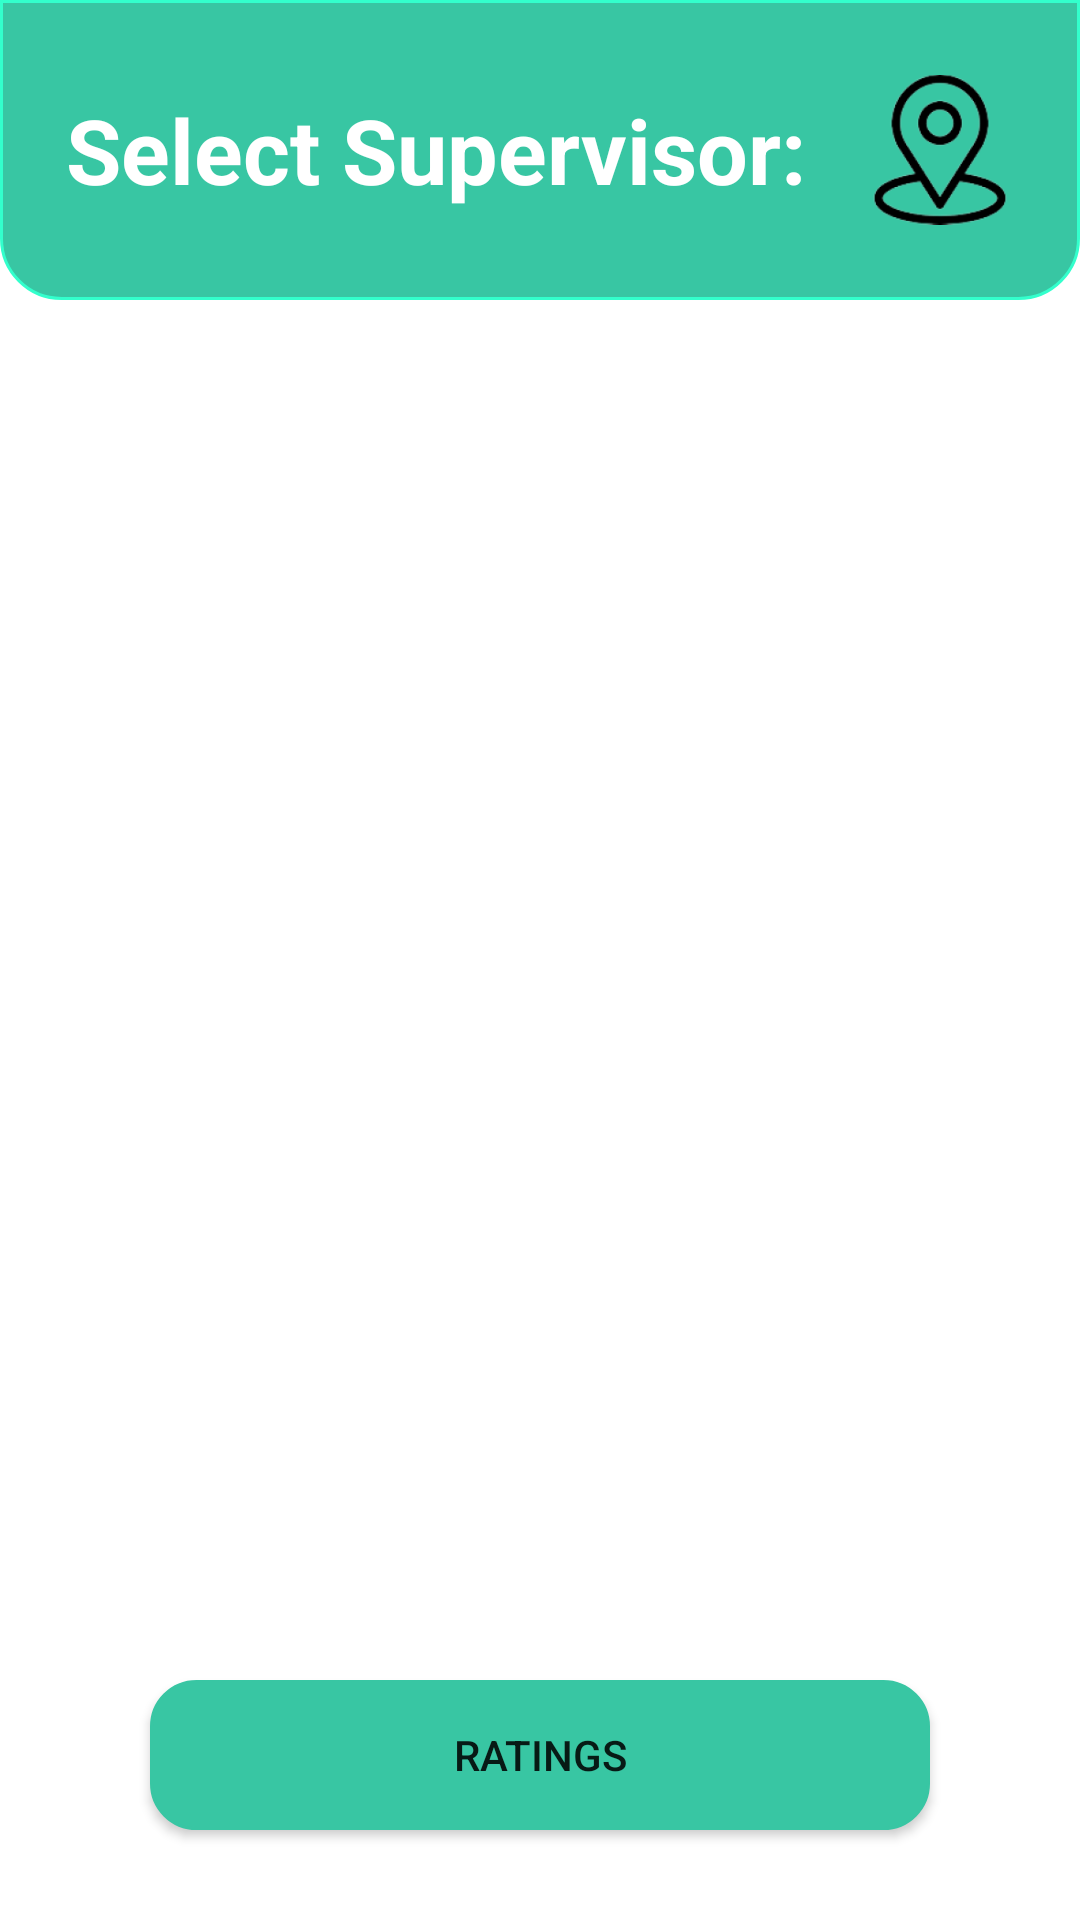

Icon click points for this 1080*1920 phone screenshot, format (x=x, y=y):
location: (x=940, y=150)
